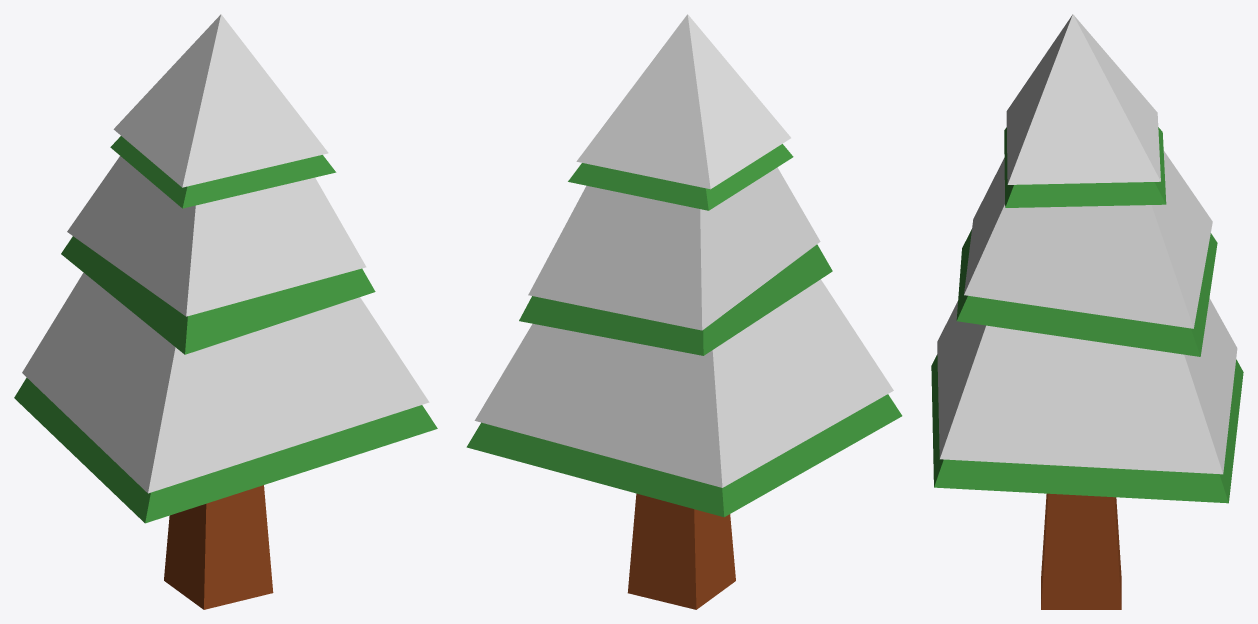
The model's file is Tree.fbx.
The picture shows the model from 3 angles, left to right: view 1: azimuth 30°, elevation 25°; view 2: azimuth 150°, elevation 25°; view 3: azimuth 270°, elevation 25°; orthographic projection.
Parts seen in each view (by area): view 1: Plane; view 2: Plane; view 3: Plane.
Boxes of the visible parts, x1=… form: Plane: x1=14, y1=14, x2=437, y2=609; Plane: x1=466, y1=14, x2=902, y2=609; Plane: x1=931, y1=14, x2=1243, y2=609.
Bounding box in the file's own units: 2.34 × 4.38 × 2.14.
